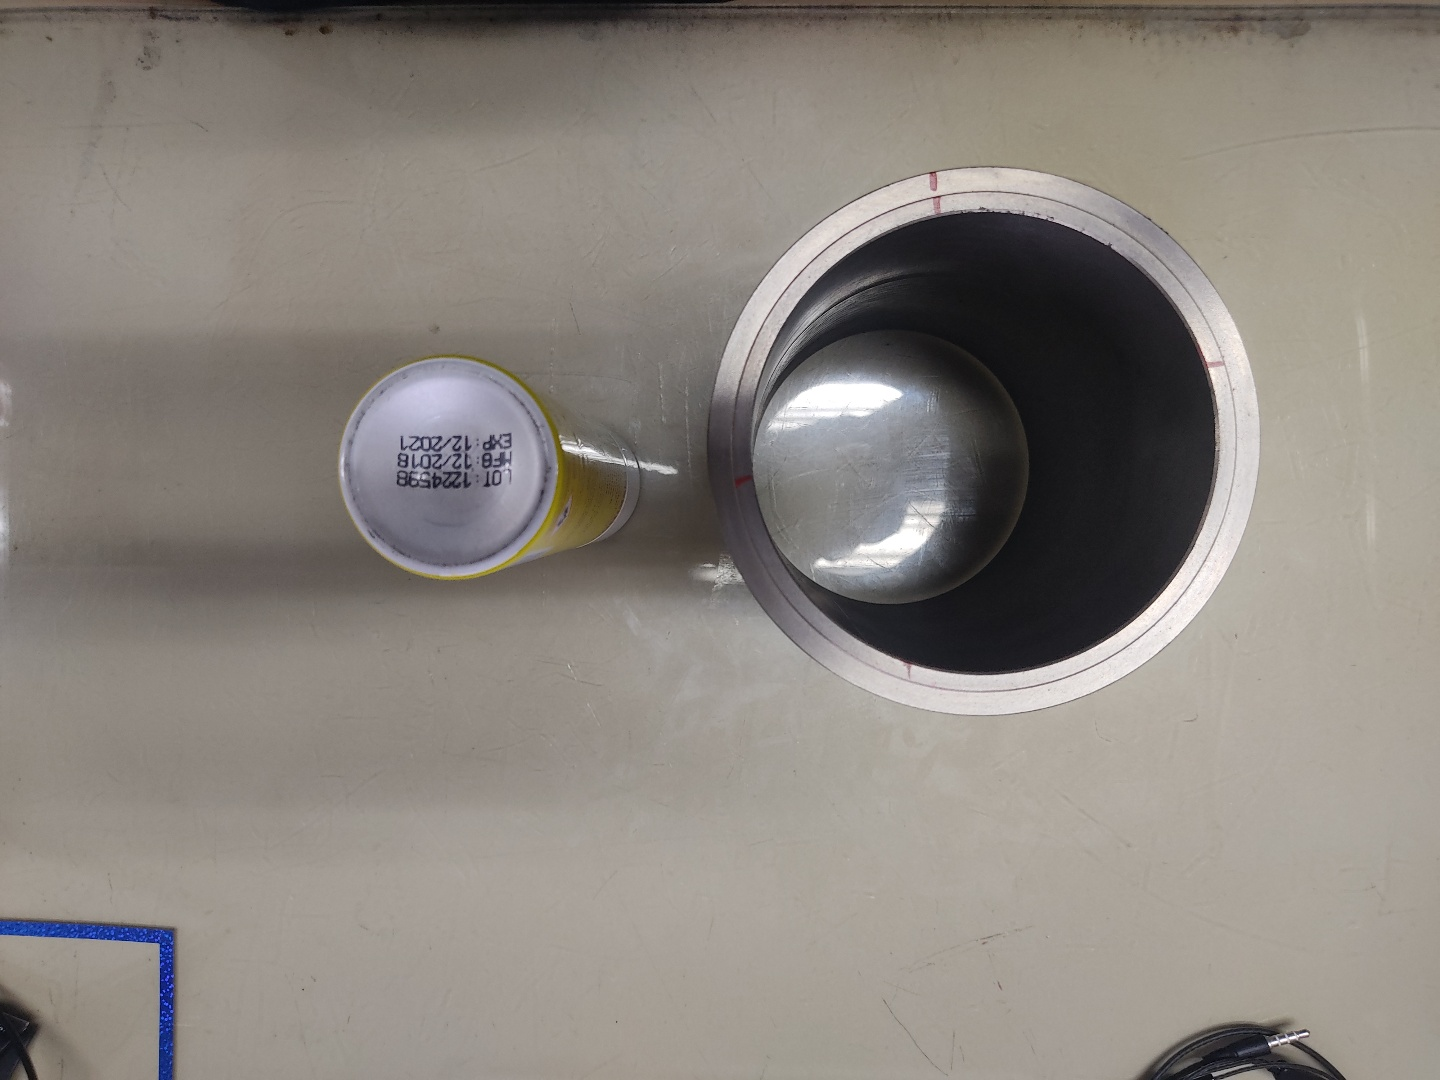cylinder: (698, 161, 1270, 724)
